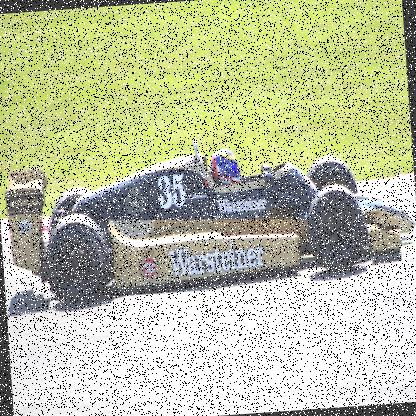Car: (24, 120, 404, 303)
